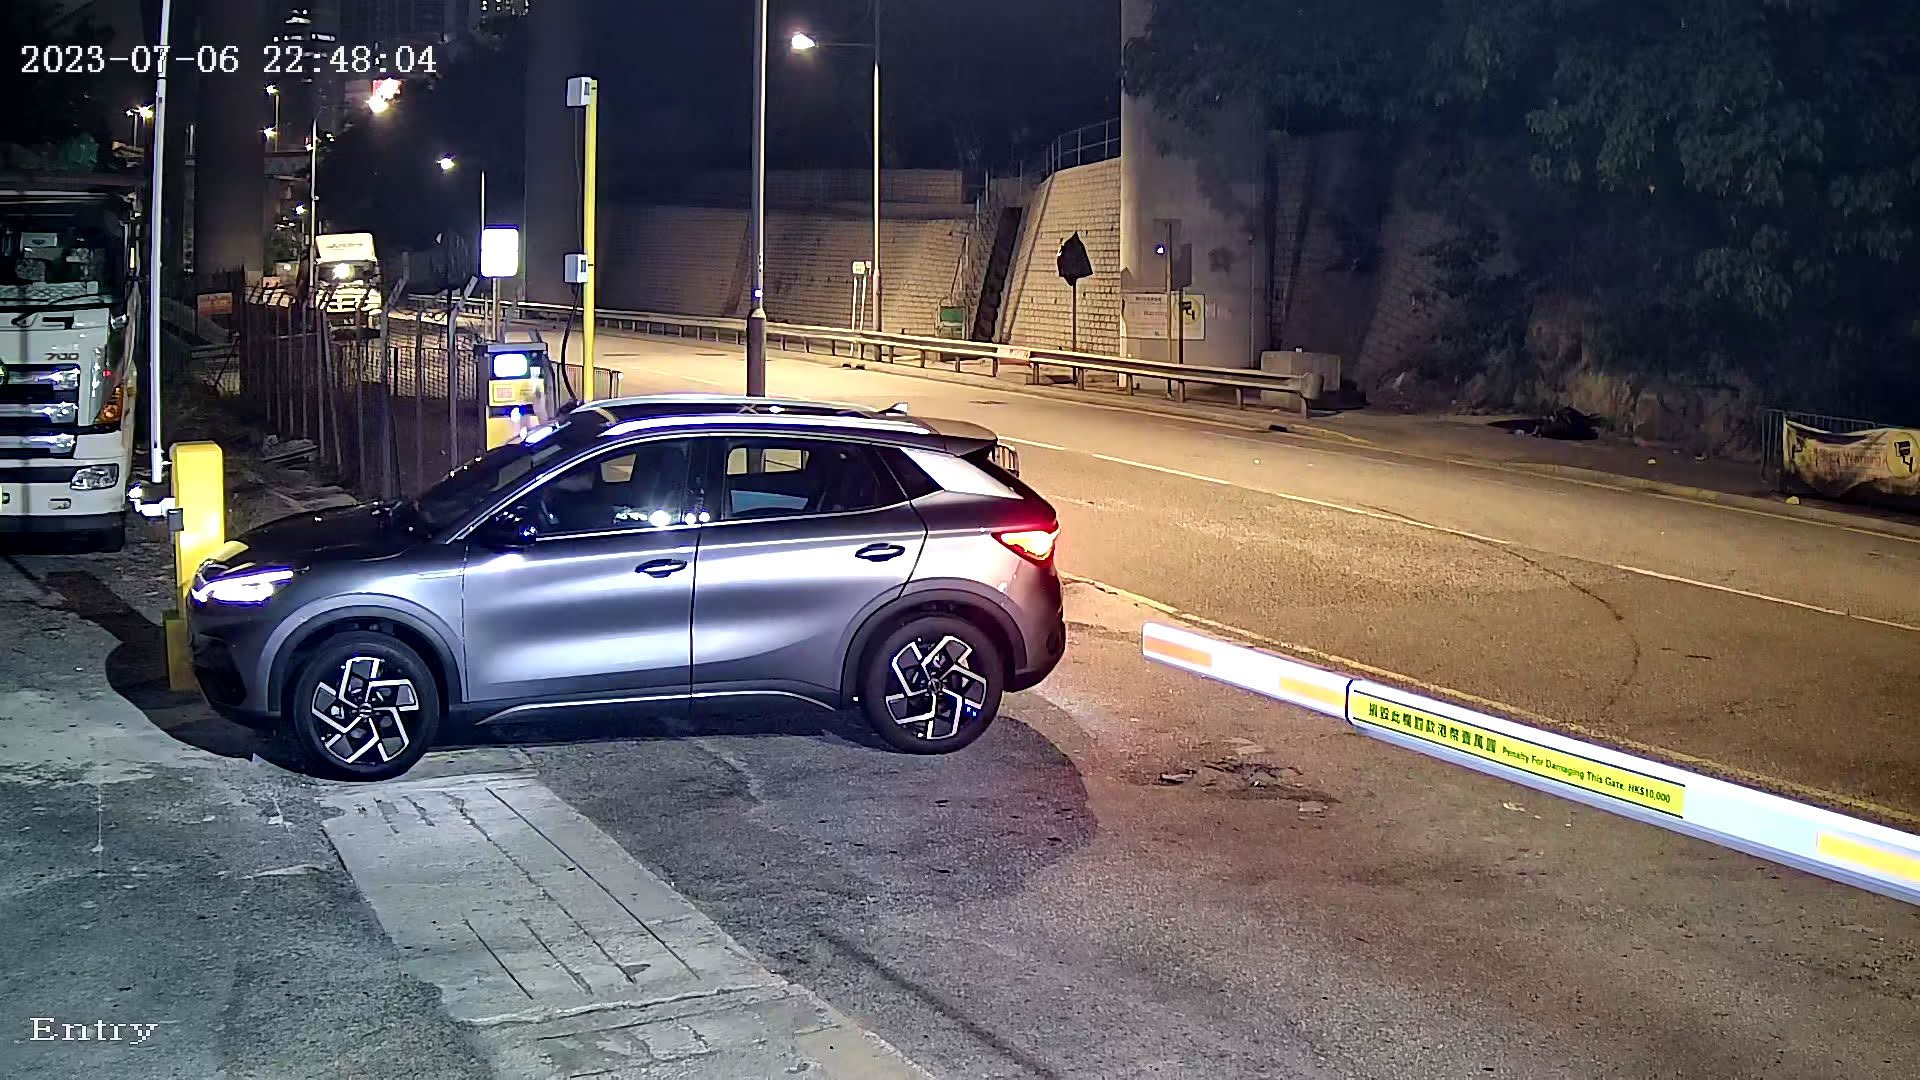privatecar: (117, 272, 1083, 810)
